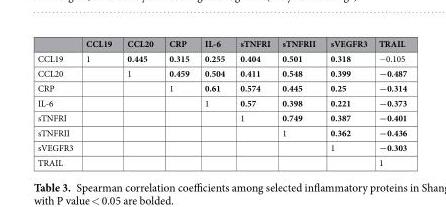table: (36, 36, 406, 168)
table column: (322, 36, 372, 168), (275, 36, 322, 168), (231, 36, 275, 168), (36, 36, 78, 168), (118, 36, 160, 168), (78, 36, 118, 168), (160, 36, 196, 168), (196, 36, 231, 168), (372, 36, 406, 168)
table column header: (36, 36, 406, 50)
table row: (36, 50, 406, 65), (36, 65, 406, 80), (36, 80, 406, 95), (36, 109, 406, 124), (36, 124, 406, 139), (36, 139, 406, 154), (36, 36, 406, 50), (36, 95, 406, 109), (36, 154, 406, 168)
